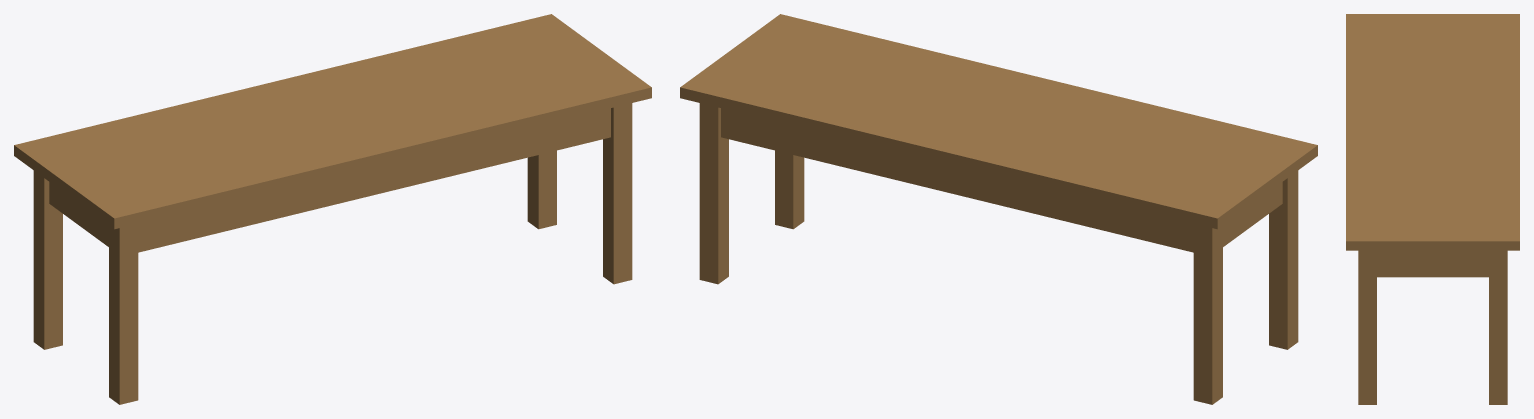
Rendered from HIN-BEB-std.glb.
3 views of the same model, side by side, from view 1: azimuth 30°, elevation 25°; view 2: azimuth 150°, elevation 25°; view 3: azimuth 270°, elevation 25° (orthographic). The views are drawn at different scales.
Visible parts, largest first — view 1: top:pbr, apron-f:pbr, leg-fl:pbr, leg-fr:pbr, leg-bl:pbr, leg-br:pbr, apron-l:pbr; view 2: top:pbr, apron-b:pbr, leg-bl:pbr, leg-br:pbr, leg-fl:pbr, leg-fr:pbr, apron-l:pbr; view 3: top:pbr, apron-r:pbr, leg-fr:pbr, leg-br:pbr.
Part boxes in pixels (x1,y1,x2,y2): top:pbr: [14, 14, 651, 229]; apron-f:pbr: [138, 108, 610, 252]; leg-fl:pbr: [109, 223, 138, 404]; leg-fr:pbr: [603, 103, 632, 284]; leg-bl:pbr: [33, 170, 62, 349]; leg-br:pbr: [527, 150, 556, 229]; apron-l:pbr: [49, 182, 108, 246]; top:pbr: [680, 14, 1317, 229]; apron-b:pbr: [721, 108, 1193, 252]; leg-bl:pbr: [1193, 223, 1222, 404]; leg-br:pbr: [699, 103, 728, 284]; leg-fl:pbr: [1269, 170, 1298, 349]; leg-fr:pbr: [775, 150, 804, 229]; apron-l:pbr: [1223, 182, 1282, 246]; top:pbr: [1346, 14, 1519, 250]; apron-r:pbr: [1377, 250, 1488, 277]; leg-fr:pbr: [1358, 250, 1376, 404]; leg-br:pbr: [1489, 250, 1507, 404].
Size of the model in its own units: 1.3 by 0.45 by 0.42.
